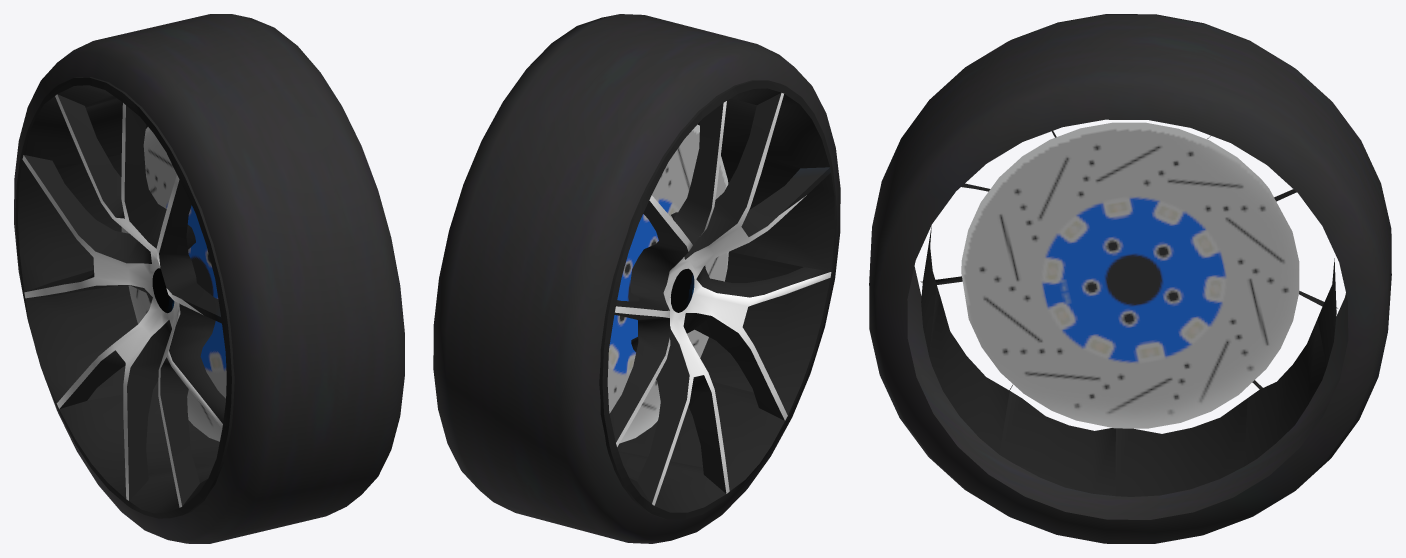
Rendered from WheelBack_R.glb.
3 renders of one model, left to right at view 1: azimuth 30°, elevation 25°; view 2: azimuth 150°, elevation 25°; view 3: azimuth 270°, elevation 25°, orthographic.
Parts seen in each view (by area): view 1: SportCoupe.009; view 2: SportCoupe.009; view 3: SportCoupe.009.
Boxes of the visible parts, x1=… form: SportCoupe.009: x1=14, y1=14, x2=404, y2=543; SportCoupe.009: x1=433, y1=14, x2=840, y2=543; SportCoupe.009: x1=869, y1=14, x2=1391, y2=543.
Size of the model in its own units: 0.4197 by 1.05 by 1.05.
Materials: 1 (1 with a texture image).
